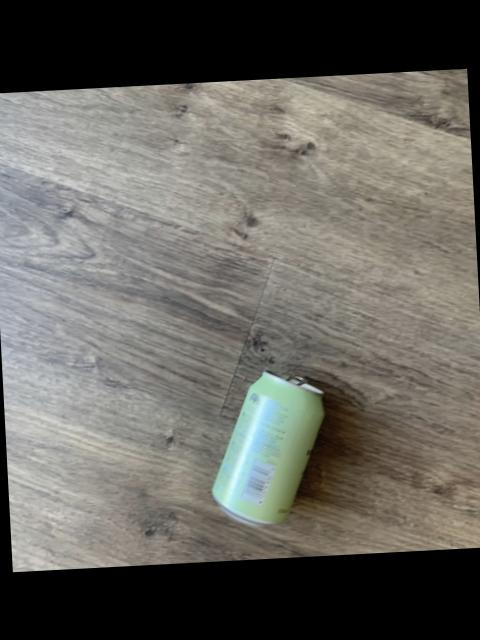metal: (214, 370, 325, 523)
